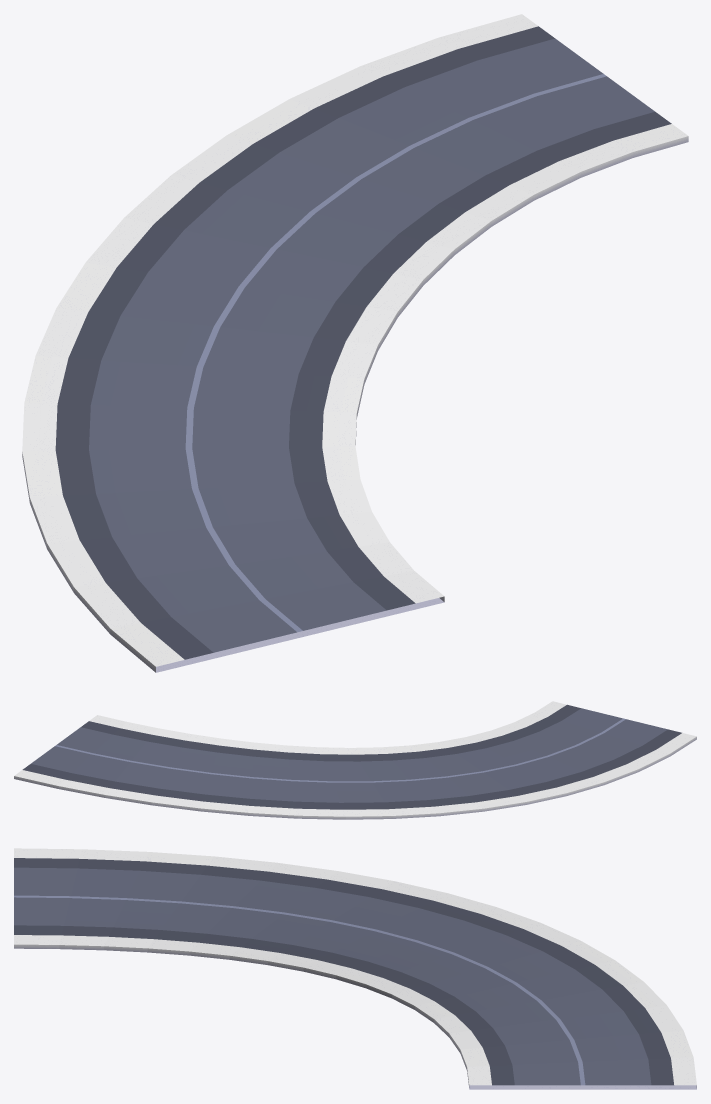
The model's file is road-Turn-Flat-Flat-Up1-Right-Size3.glb.
3 renders of one model, top to bottom at view 1: azimuth 30°, elevation 25°; view 2: azimuth 150°, elevation 25°; view 3: azimuth 270°, elevation 25°, orthographic. The views are drawn at different scales.
Parts seen in each view (by area): view 1: road-Turn-Flat-Flat-Up1-Right-Size3; view 2: road-Turn-Flat-Flat-Up1-Right-Size3; view 3: road-Turn-Flat-Flat-Up1-Right-Size3.
Boxes of the visible parts, bbox=[...] form: road-Turn-Flat-Flat-Up1-Right-Size3: bbox=[22, 14, 688, 672]; road-Turn-Flat-Flat-Up1-Right-Size3: bbox=[14, 701, 696, 819]; road-Turn-Flat-Flat-Up1-Right-Size3: bbox=[14, 848, 696, 1089].
Size of the model in its own units: 3 by 0.27 by 3.
Materials: 1 (1 with a texture image).
